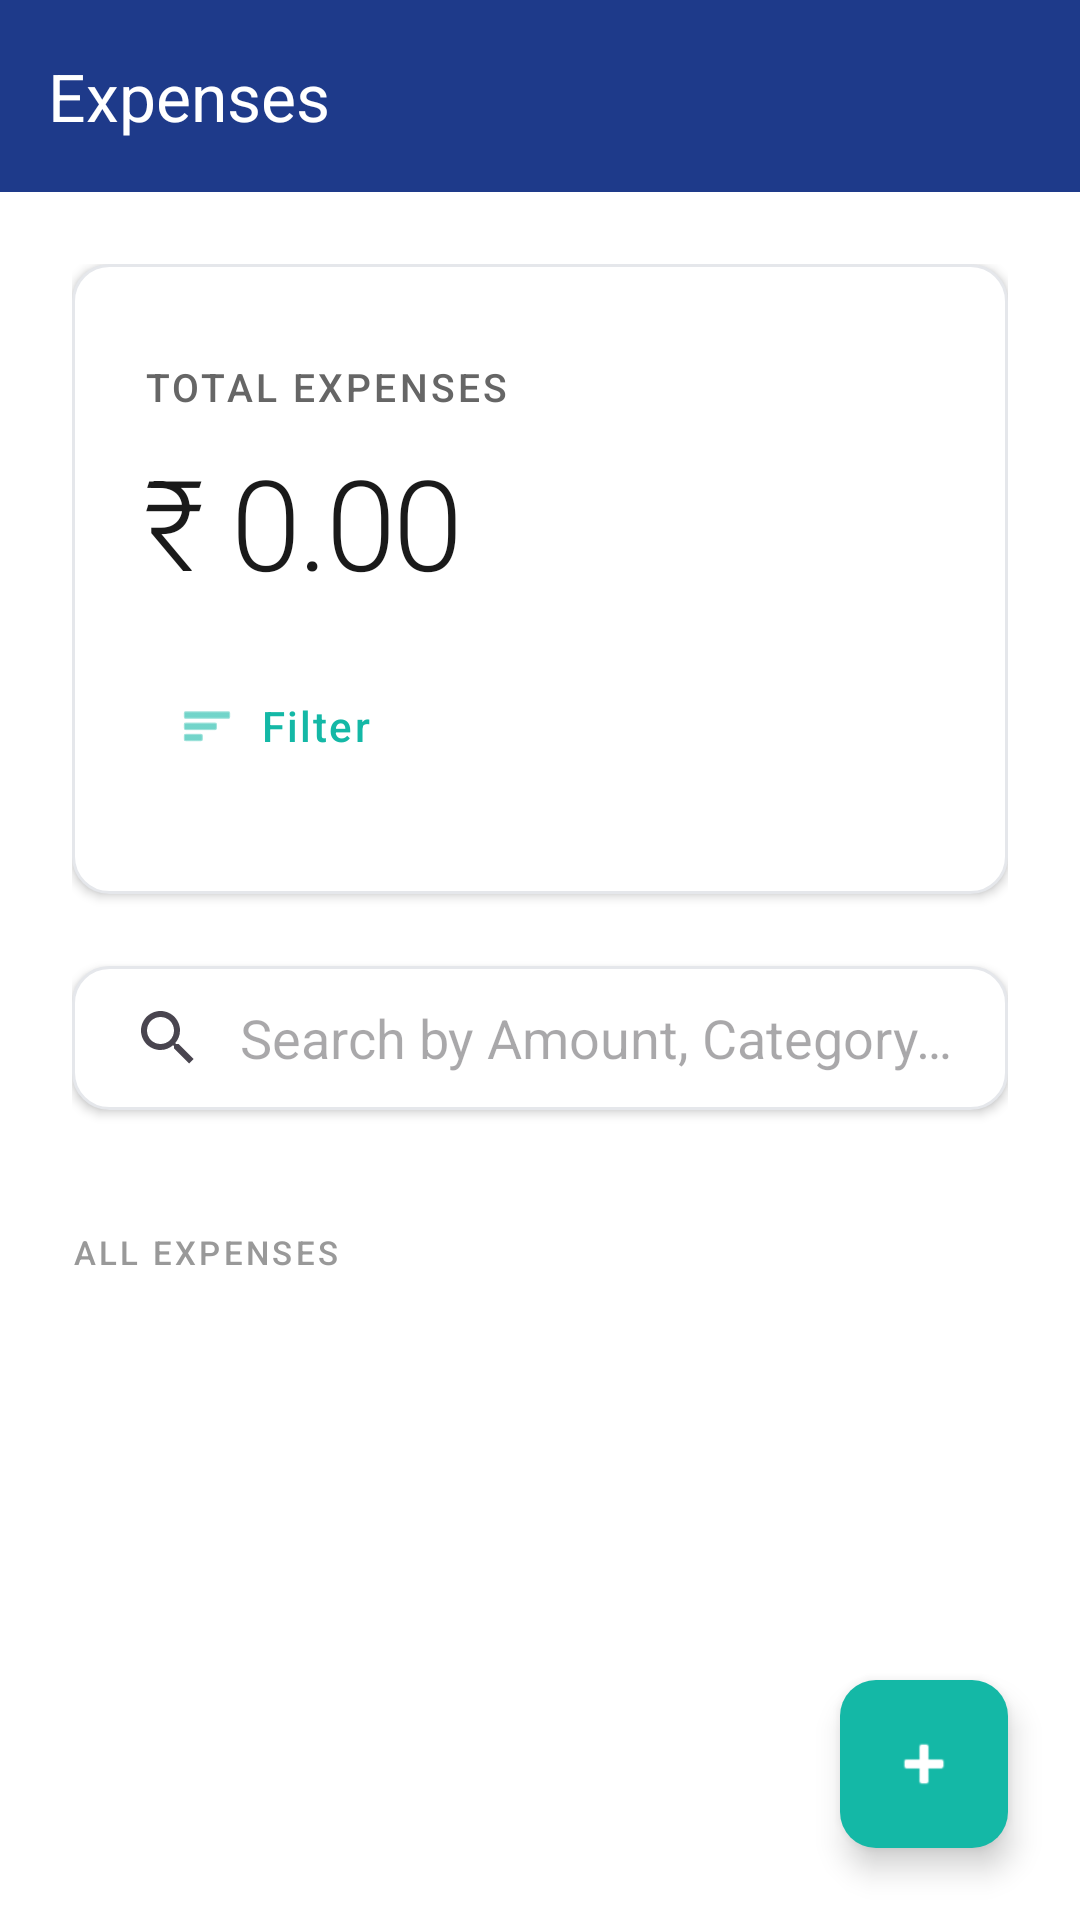

Screen size 1080x1920. Icon name, then its box in pixels as (x1, y1, x2, y2):
Add Expense: (840, 1680, 1008, 1848)
